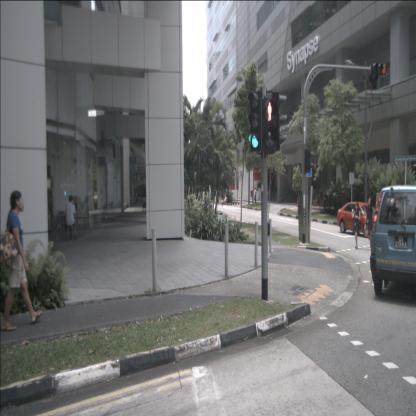cone: (296, 196, 300, 205), (280, 196, 282, 202)
